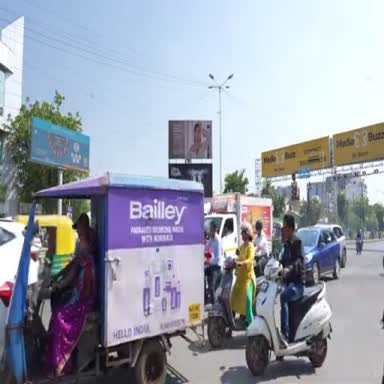Car: (0, 220, 25, 355), (297, 226, 340, 284), (315, 224, 346, 267)
